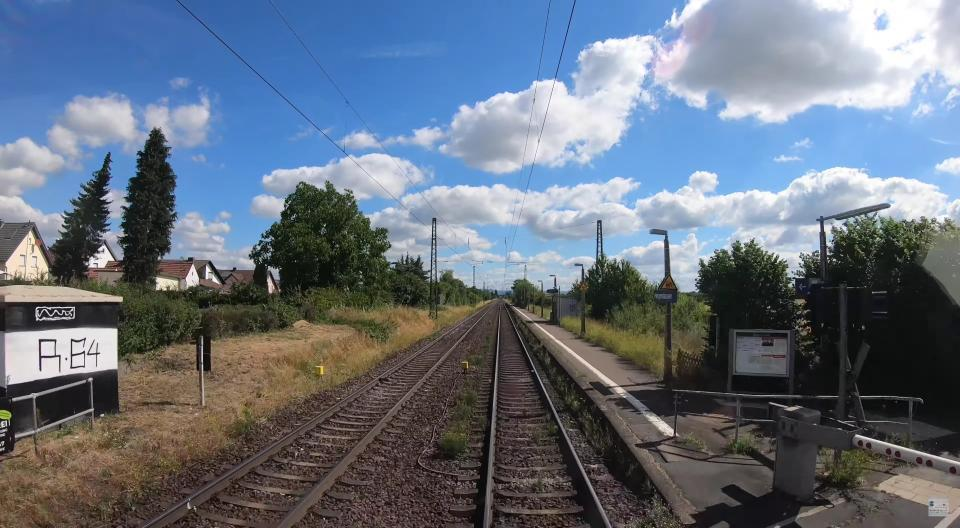Plant: (515, 318, 624, 462), (632, 498, 682, 528), (452, 388, 477, 426), (228, 406, 256, 435), (438, 433, 466, 458), (472, 354, 484, 366), (485, 334, 493, 350)
